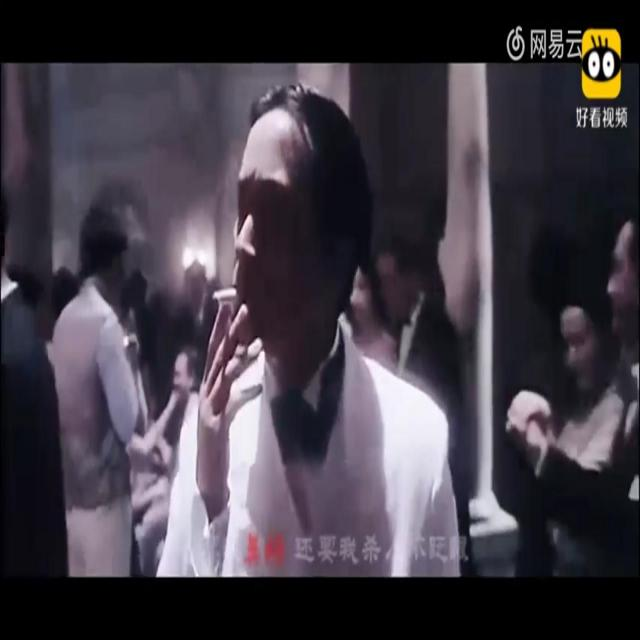Сигарета: (212, 285, 238, 303)
Тело: (157, 87, 459, 577)
